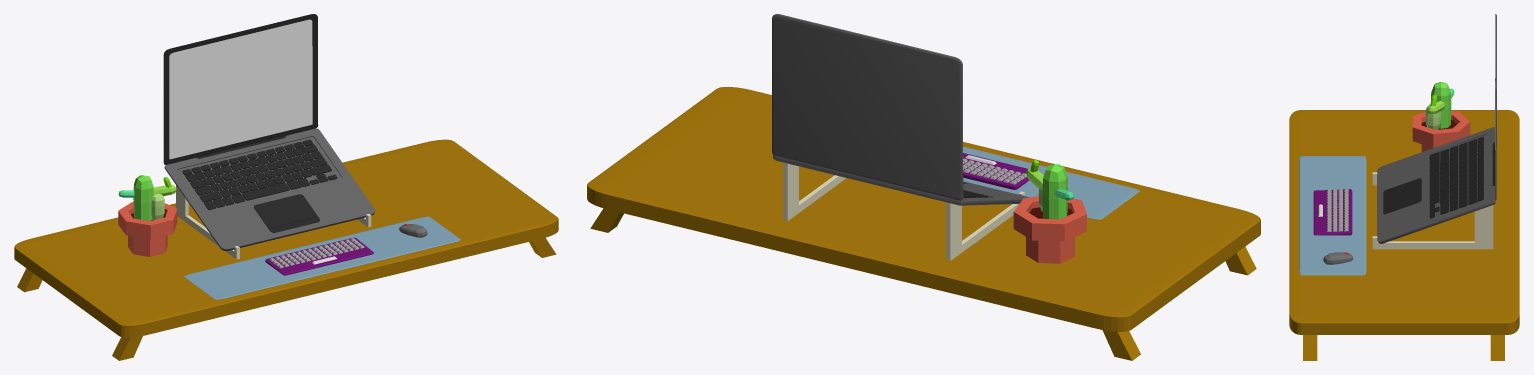
File: Escritorio.glb
3 views of the same model, side by side, from view 1: azimuth 30°, elevation 25°; view 2: azimuth 150°, elevation 25°; view 3: azimuth 270°, elevation 25° (orthographic). The views are drawn at different scales.
Parts seen in each view (by area): view 1: Mesa, Screen, Base, MousePad, Teclas, maseta, Tapa, Touchpad, teclado, teclas, BaseLap; view 2: Mesa, Tapa, maseta, BaseLap, MousePad, Base, teclas, teclado; view 3: Mesa, MousePad, Base, Teclas, maseta, BaseLap, teclado, teclas, Touchpad, Tapa, Mouse.
Boxes of the visible parts, x1,y1,x2,y2 form: Mesa: (14, 139, 558, 360); Screen: (169, 19, 312, 159); Base: (164, 128, 375, 250); MousePad: (184, 216, 460, 299); Teclas: (182, 139, 337, 209); maseta: (118, 175, 177, 256); Tapa: (163, 14, 318, 164); Touchpad: (254, 194, 317, 228); teclado: (265, 237, 373, 275); teclas: (269, 238, 364, 268); BaseLap: (176, 185, 371, 259); Mesa: (587, 87, 1260, 360); Tapa: (772, 14, 963, 200); maseta: (1013, 160, 1086, 263); BaseLap: (783, 162, 1025, 260); MousePad: (963, 146, 1139, 219); Base: (773, 155, 1029, 205); teclas: (963, 155, 1026, 184); teclado: (963, 153, 1029, 189); Mesa: (1289, 110, 1519, 360); MousePad: (1299, 156, 1366, 275); Base: (1377, 127, 1495, 243); Teclas: (1429, 137, 1483, 218); maseta: (1412, 82, 1470, 151); BaseLap: (1372, 172, 1493, 249); teclado: (1313, 189, 1352, 235); teclas: (1318, 188, 1348, 231); Touchpad: (1390, 178, 1421, 212); Tapa: (1495, 14, 1496, 200); Mouse: (1323, 252, 1353, 264).
Bounding box in the file's own units: 69.97 × 31.38 × 31.97.
